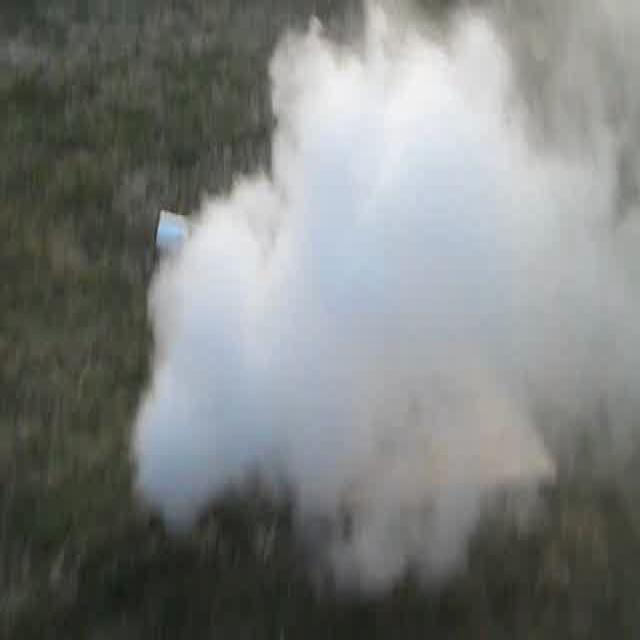Smoke: (152, 8, 636, 550)
